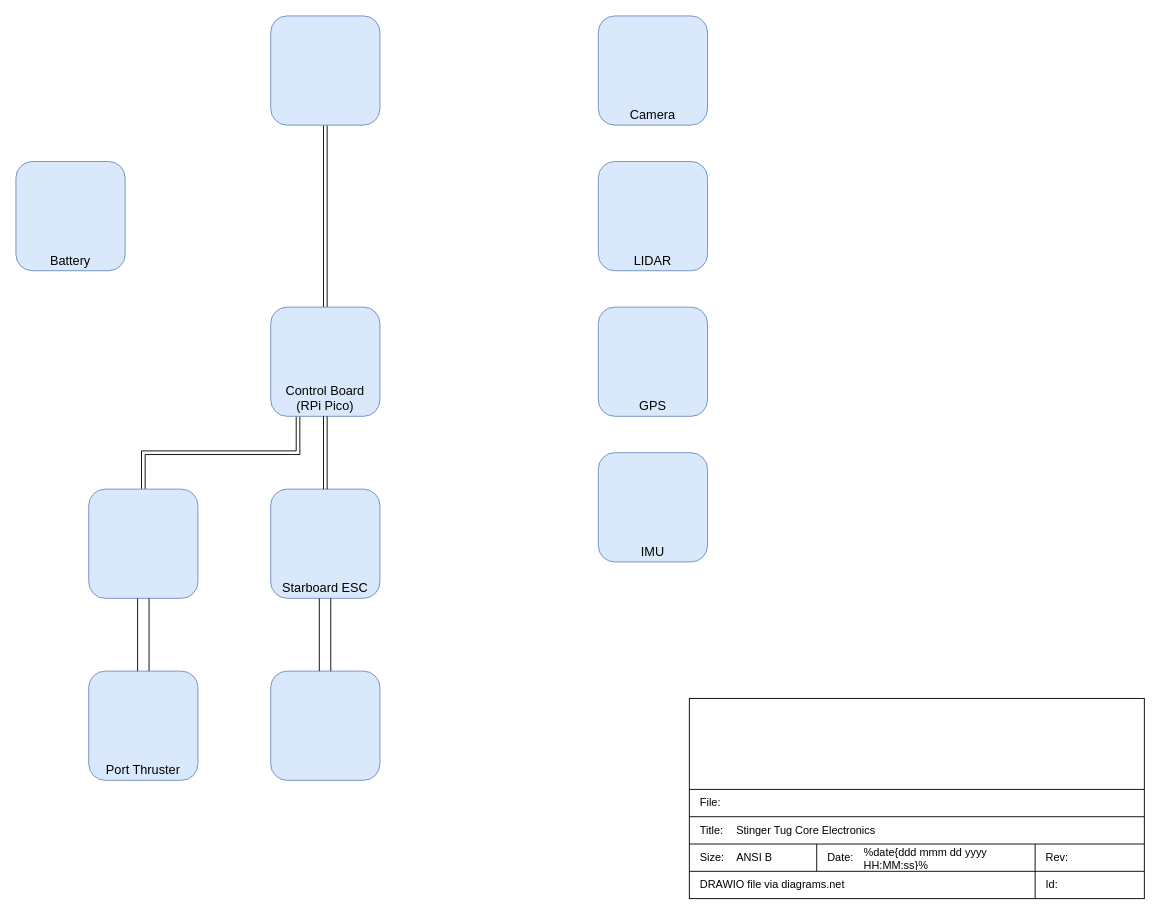
This 1161x915 diagram has some shape labels left out. The shapes that lost their labels are listed below. From the top down, each one's box as (x1, y1, x2, y2) in pixels, then its label:
(270, 15, 380, 125): Main Computer (RPi Zero 2W)
(88, 488, 198, 598): Port ESC
(270, 670, 380, 780): Starboard Thruster
